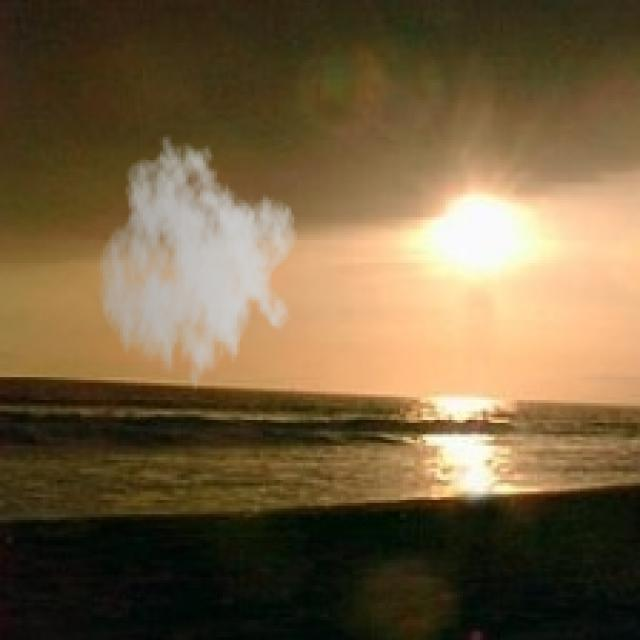Smoke: (97, 134, 297, 406)
